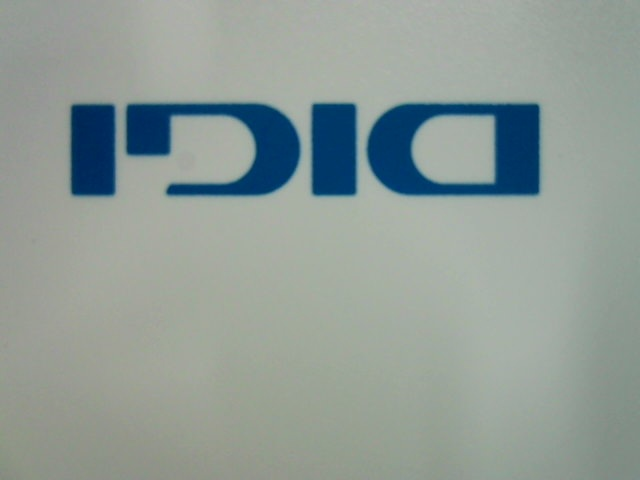BL_DIGI: (60, 84, 556, 213)
